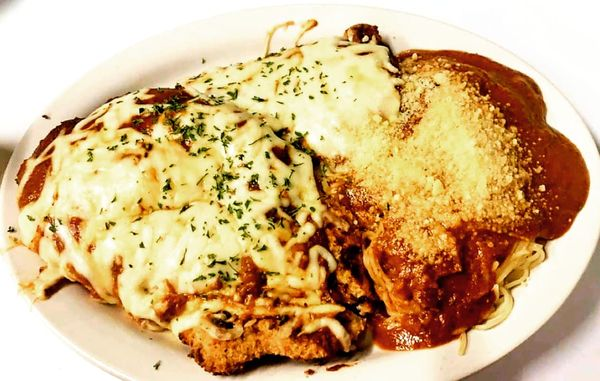sandwich: (10, 17, 590, 369)
